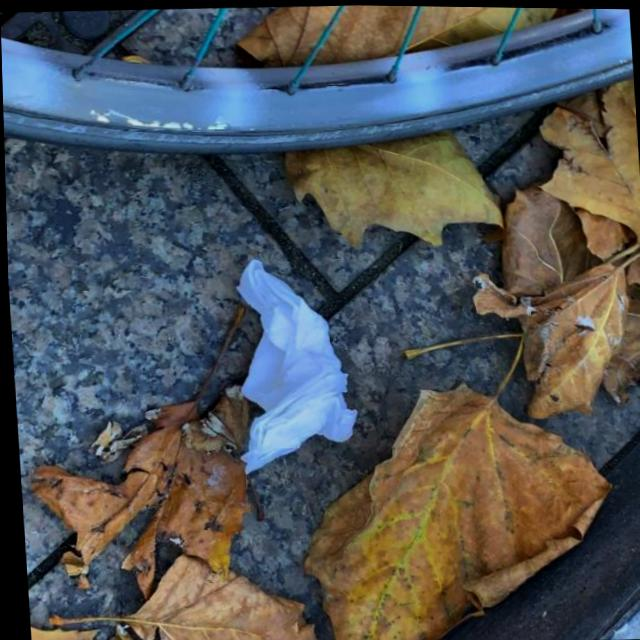Paper: (223, 254, 357, 476)
